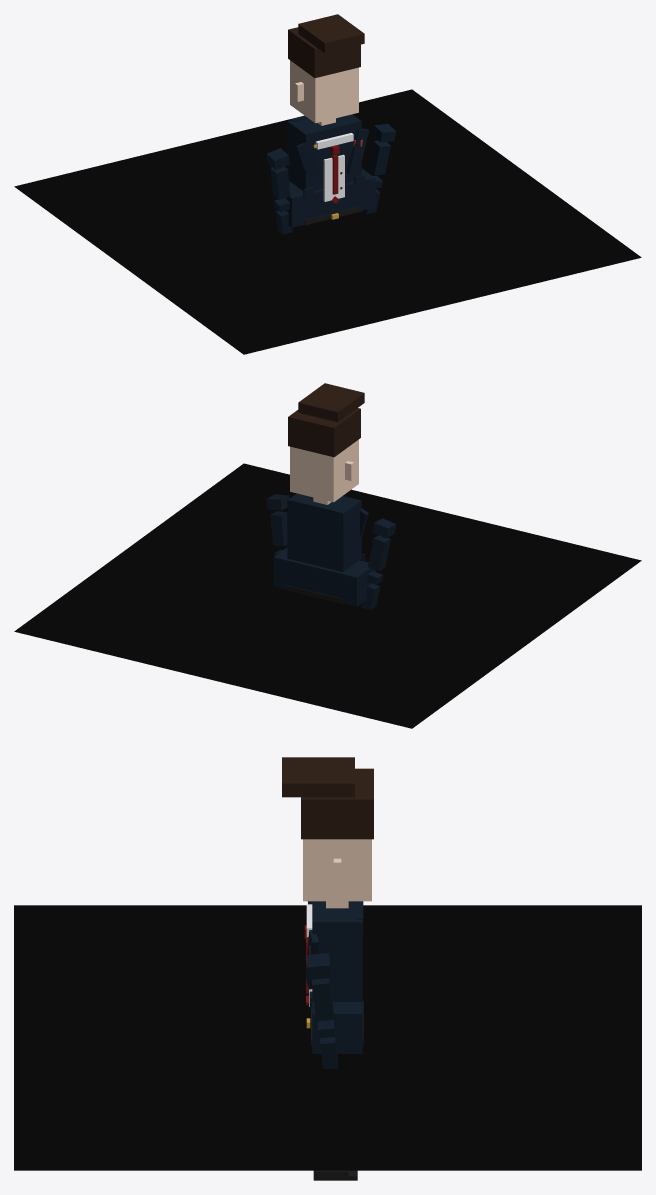
Rendered from character_suit.glb.
3 views of the same model, one above another, from view 1: azimuth 30°, elevation 25°; view 2: azimuth 150°, elevation 25°; view 3: azimuth 270°, elevation 25° (orthographic). The views are drawn at different scales.
Visible parts, largest first — view 1: object 1, torsoGroup, headGroup, object 5, object 12; view 2: object 1, torsoGroup, headGroup, object 12, object 5; view 3: object 1, headGroup, torsoGroup, object 5, object 4.
Boxes of the visible parts, <box> form: object 1: <box>14,89,641,354</box>; torsoGroup: <box>273,114,375,227</box>; headGroup: <box>288,14,364,125</box>; object 5: <box>368,140,390,175</box>; object 12: <box>270,166,290,199</box>; object 1: <box>14,463,641,728</box>; torsoGroup: <box>273,493,375,606</box>; headGroup: <box>288,383,364,504</box>; object 12: <box>368,535,390,571</box>; object 5: <box>270,511,287,546</box>; object 1: <box>14,905,641,1170</box>; headGroup: <box>282,757,373,908</box>; torsoGroup: <box>304,901,363,1053</box>; object 5: <box>312,978,333,1021</box>; object 4: <box>307,953,331,979</box>.
Bounding box in the file's own units: 5 × 3.48 × 5.
